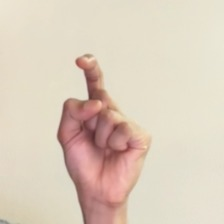X: (34, 40, 162, 209)
